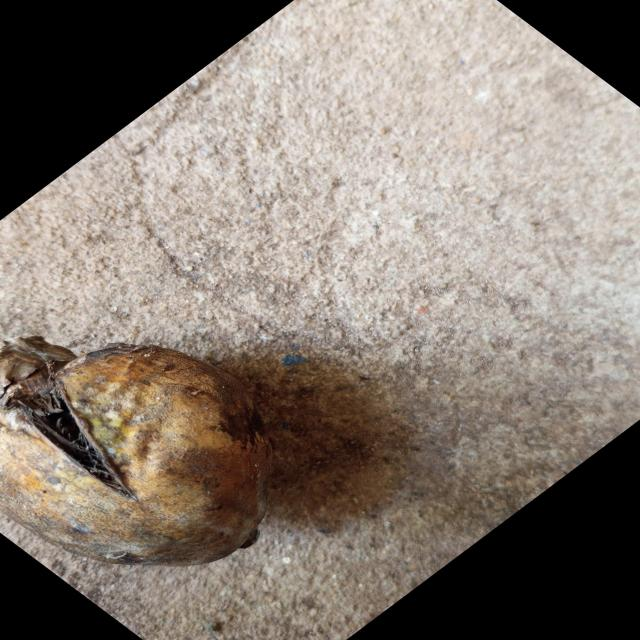damaged: (0, 336, 271, 566)
